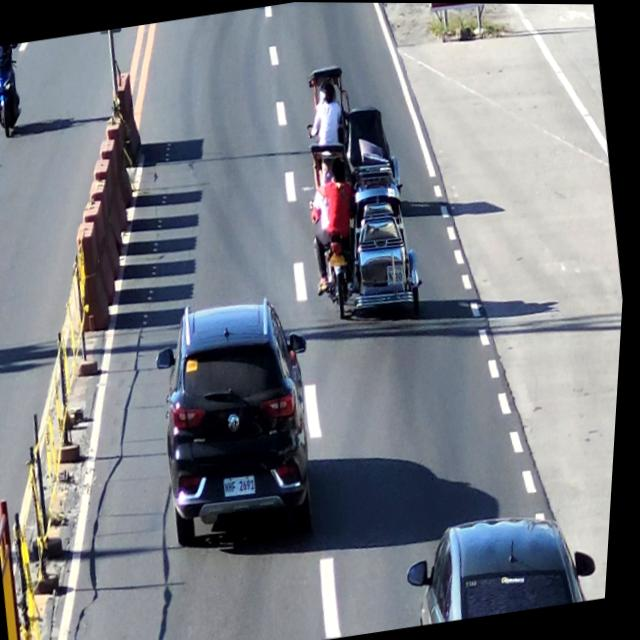Car: (147, 292, 338, 557), (406, 496, 591, 627)
License-Plate: (226, 469, 266, 504)
Tricycle: (302, 134, 432, 322), (294, 56, 412, 202)
